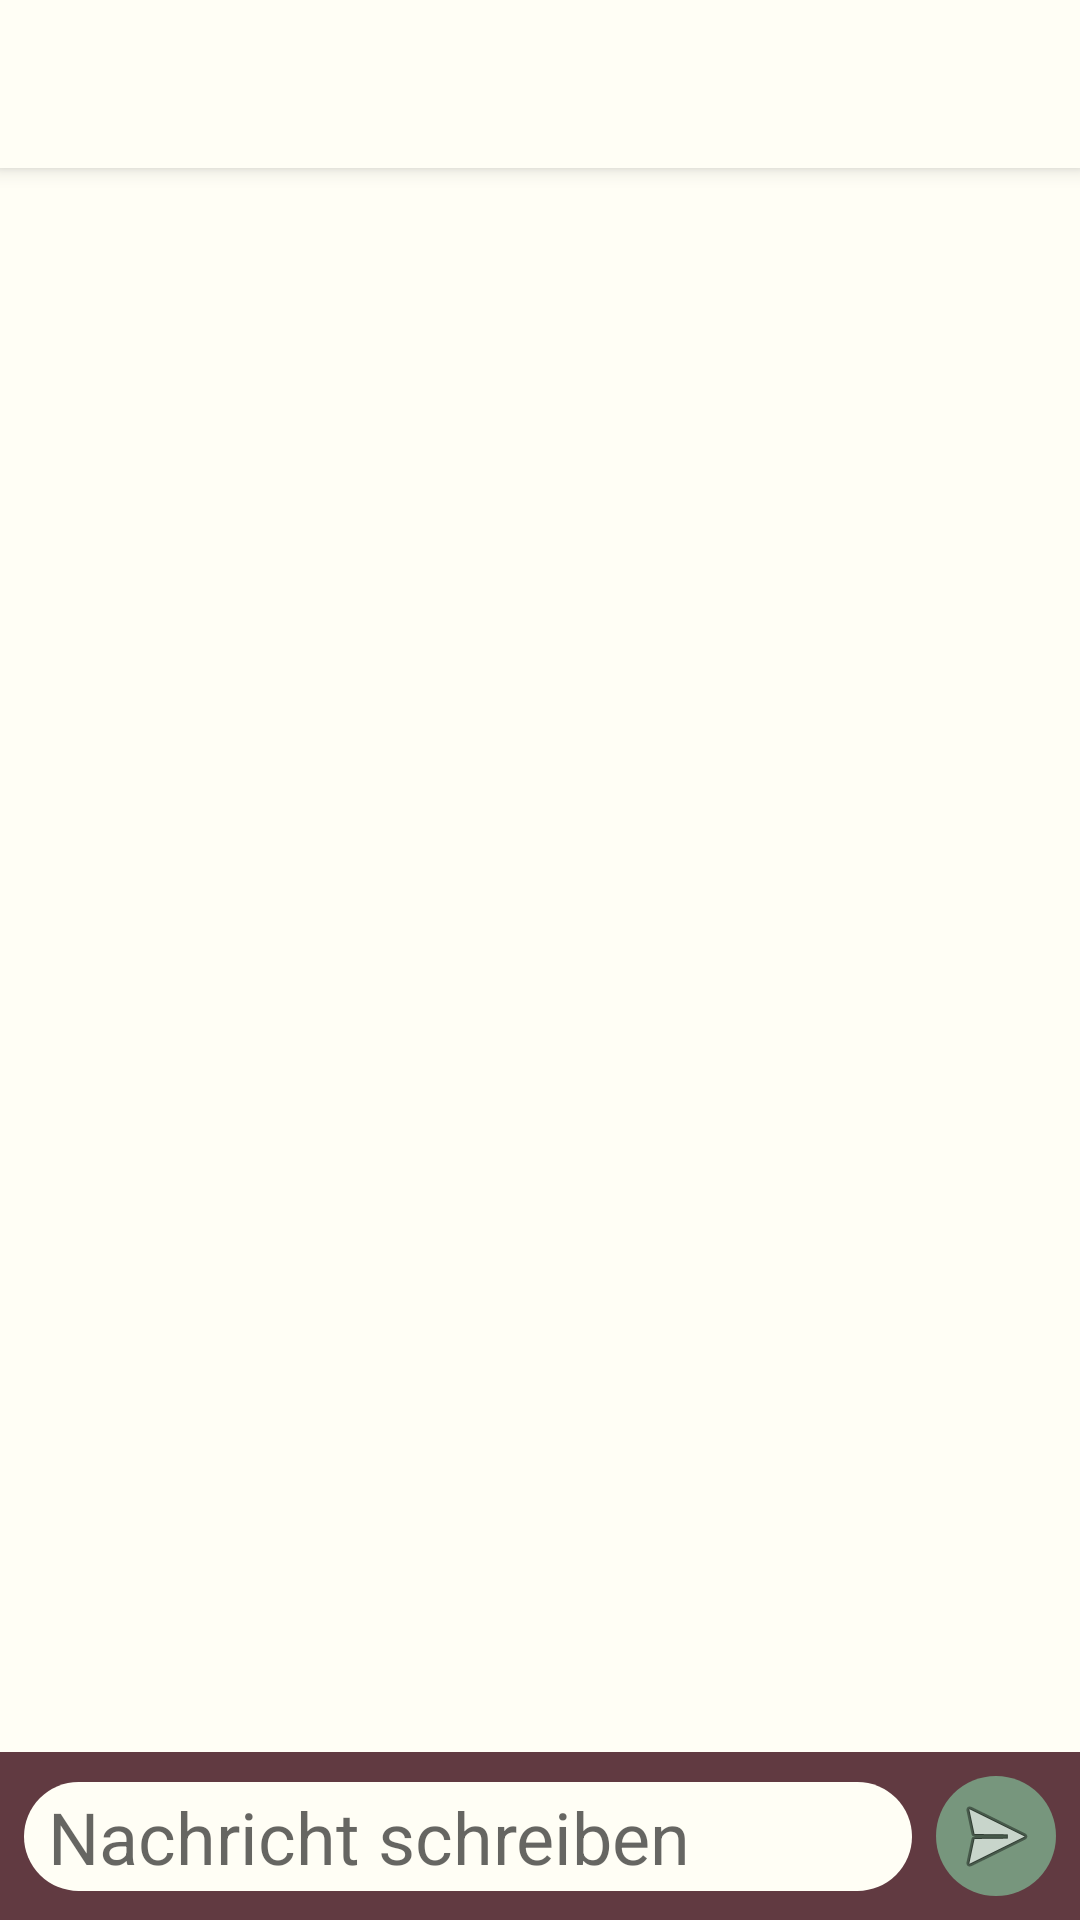

Where to tap for icons on this 1080x1920 app screen, as (x=x, y=y):
send: (x=996, y=1836)
